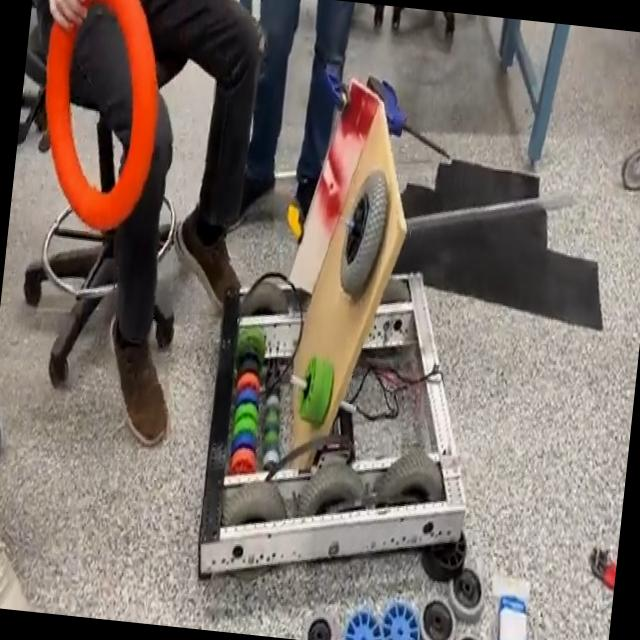note: (26, 0, 173, 239)
